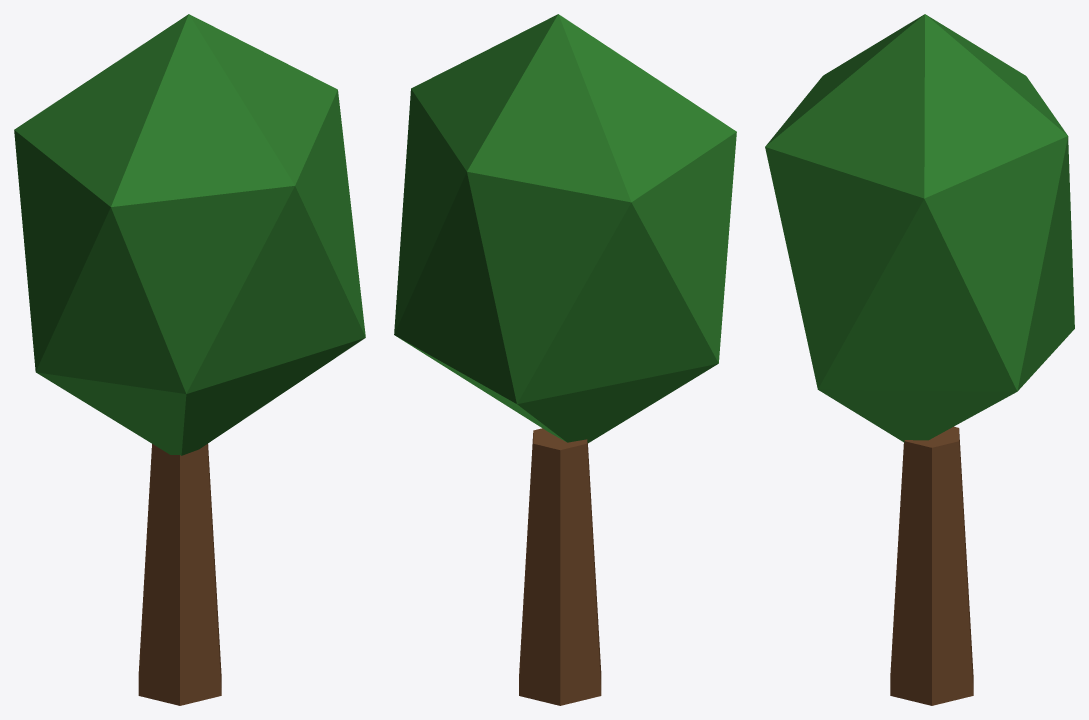
Rendered from tree_tall.glb.
The picture shows the model from 3 angles, left to right: view 1: azimuth 30°, elevation 25°; view 2: azimuth 150°, elevation 25°; view 3: azimuth 270°, elevation 25°; orthographic projection.
Visible parts, largest first — view 1: tree_tall; view 2: tree_tall; view 3: tree_tall.
Boxes of the visible parts, x1,y1,x2,y2 form: tree_tall: [14, 14, 365, 705]; tree_tall: [394, 14, 736, 705]; tree_tall: [765, 14, 1074, 705].
Size of the model in its own units: 1.92 by 4.03 by 1.68.
